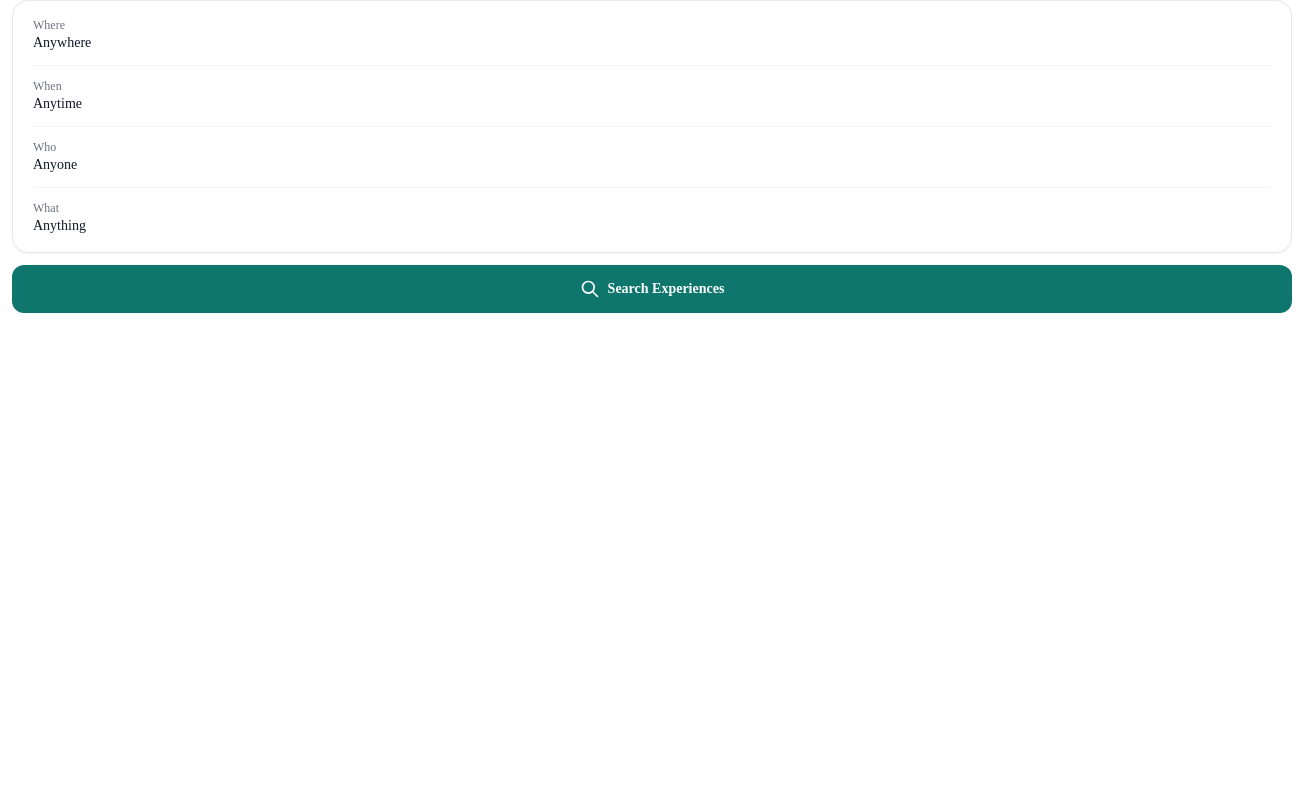
Scenario: ProductDiscoverySearch › navigation › advances to When section when a Where suggestion is selected
This screenshot has width=1304, height=800.
Click the button "Where Anywhere" at (49, 25), box [17,5,1287,65]
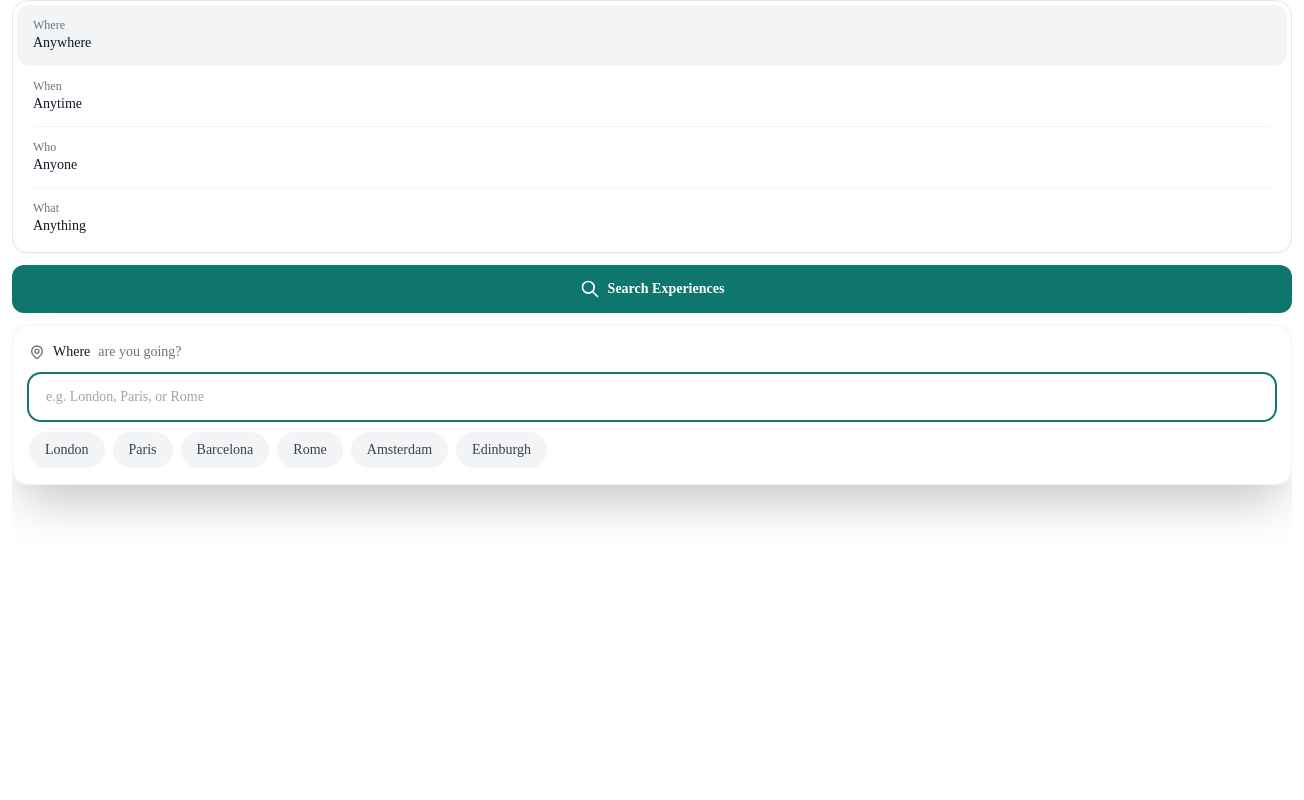
Click the button "London" at (67, 450), box [29,432,105,468]
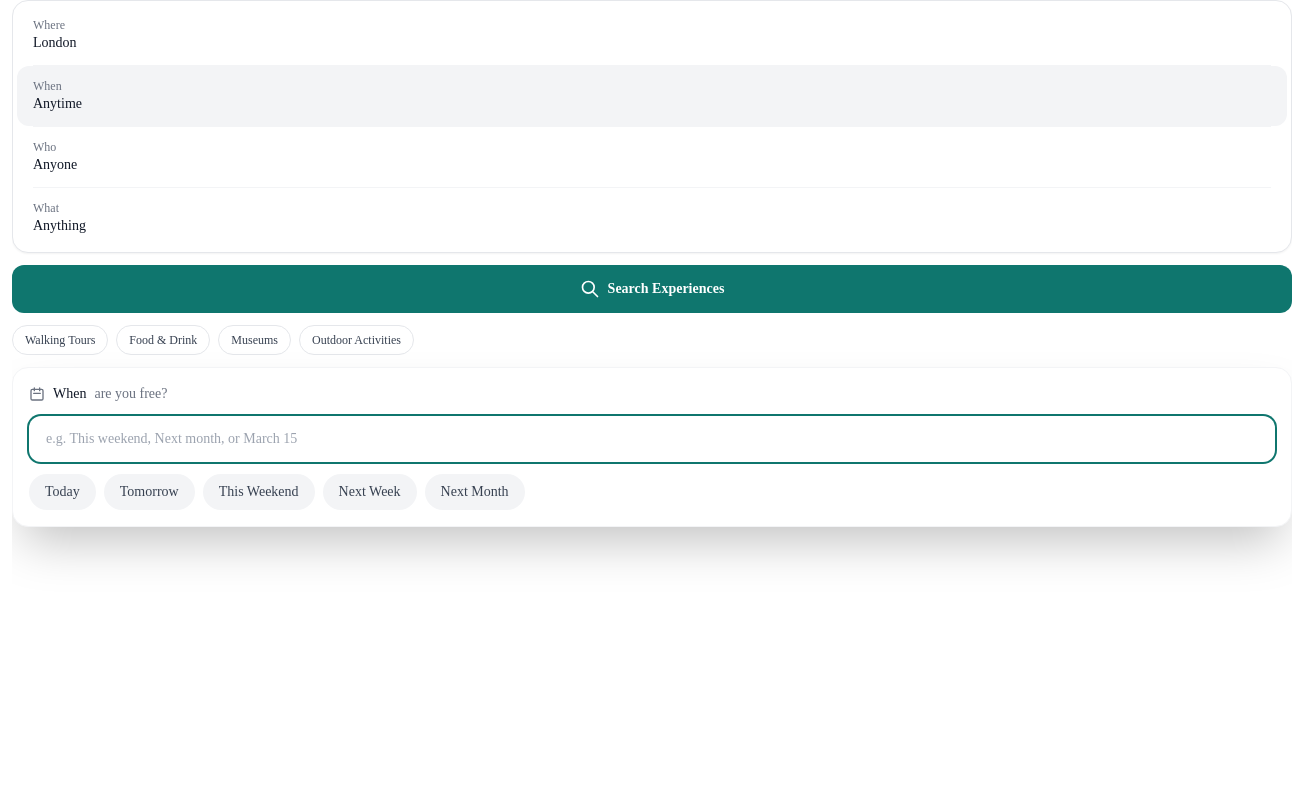
Expected: the text "are you free?" is shown, [94,384,168,404]
